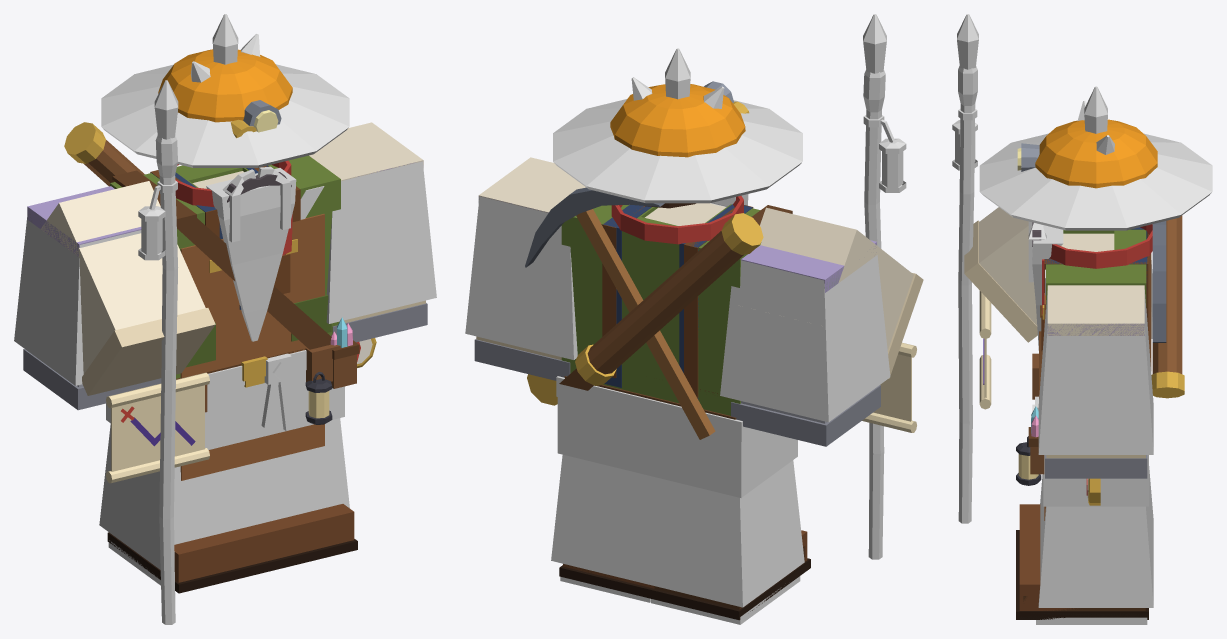
File: w3_keepers.fbx
3 renders of one model, left to right at view 1: azimuth 30°, elevation 25°; view 2: azimuth 150°, elevation 25°; view 3: azimuth 270°, elevation 25°, orthographic. The views are drawn at different scales.
Parts seen in each view (by area): view 1: SenseiCrystalGear.Trousers, SenseiCrystalGear.SleeveL, SenseiCrystalGear.Hat, ExplorerGear.SleeveR, GemcutterGear.Apron, SenseiCrystalGear.Beard, SenseiCrystalGear.SleeveR, SenseiCrystalGear.Staff, MinerGear.Boots, ExplorerGear.Map, MinerGear.Hat, ExplorerGear.CuffR (+20 smaller); view 2: SenseiCrystalGear.Trousers, SenseiCrystalGear.SleeveR, SenseiCrystalGear.Hat, ExplorerGear.Vest, SenseiCrystalGear.SleeveL, SenseiCrystalGear.Skirt, MinerGear.Hat, ExplorerGear.SleeveR, ExplorerGear.Tube, SenseiCrystalGear.Staff, MinerGear.PickHandle, MinerGear.CuffR (+18 smaller); view 3: SenseiCrystalGear.SleeveL, SenseiCrystalGear.Hat, SenseiCrystalGear.Trousers, SenseiCrystalGear.Staff, MinerGear.Hat, ExplorerGear.SleeveL, ExplorerGear.SleeveR, ExplorerGear.Tube, ExplorerGear.Vest, SenseiCrystalGear.Skirt, MinerGear.Boots, MinerGear.CuffL (+18 smaller).
Part boxes in pixels (box(x1,y1,x2,y2)): SenseiCrystalGear.Trousers: box(99, 418, 349, 569); SenseiCrystalGear.SleeveL: box(326, 161, 436, 323); SenseiCrystalGear.Hat: box(101, 64, 349, 167); ExplorerGear.SleeveR: box(41, 181, 205, 373); GemcutterGear.Apron: box(180, 214, 324, 480); SenseiCrystalGear.Beard: box(206, 166, 296, 341); SenseiCrystalGear.SleeveR: box(14, 217, 141, 385); SenseiCrystalGear.Staff: box(155, 135, 178, 624); MinerGear.Boots: box(174, 504, 354, 582); ExplorerGear.Map: box(106, 372, 209, 483); MinerGear.Hat: box(158, 49, 292, 122); ExplorerGear.CuffR: box(82, 308, 215, 395); SenseiCrystalGear.Trousers: box(551, 454, 804, 607); SenseiCrystalGear.SleeveR: box(720, 255, 890, 422); SenseiCrystalGear.Hat: box(553, 99, 802, 203); ExplorerGear.Vest: box(561, 204, 761, 415); SenseiCrystalGear.SleeveL: box(465, 196, 577, 359); SenseiCrystalGear.Skirt: box(557, 397, 797, 497); MinerGear.Hat: box(610, 84, 745, 157); ExplorerGear.SleeveR: box(760, 207, 913, 350); ExplorerGear.Tube: box(587, 231, 743, 374); SenseiCrystalGear.Staff: box(863, 69, 885, 559); MinerGear.PickHandle: box(576, 209, 715, 439); MinerGear.CuffR: box(731, 385, 880, 446); SenseiCrystalGear.SleeveL: box(1038, 290, 1153, 454); SenseiCrystalGear.Hat: box(979, 133, 1212, 230); SenseiCrystalGear.Trousers: box(1038, 466, 1153, 607); SenseiCrystalGear.Staff: box(958, 66, 977, 523); MinerGear.Hat: box(1035, 119, 1157, 188); ExplorerGear.SleeveL: box(1047, 285, 1144, 335); ExplorerGear.SleeveR: box(979, 207, 1037, 325); ExplorerGear.Tube: box(1152, 215, 1182, 373); ExplorerGear.Vest: box(1046, 229, 1146, 308); SenseiCrystalGear.Skirt: box(1043, 455, 1148, 506); MinerGear.Boots: box(1019, 504, 1078, 610); MinerGear.CuffL: box(1045, 455, 1147, 478).
Size of the model in its own units: 4.28 by 6.18 by 2.85.
